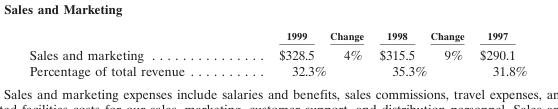table: (28, 28, 526, 78)
table column: (28, 28, 231, 78), (231, 28, 327, 78), (370, 28, 428, 78), (471, 28, 526, 78), (327, 28, 370, 78), (428, 28, 471, 78)
table column header: (28, 28, 526, 43)
table row: (28, 43, 526, 62), (28, 62, 526, 78), (28, 28, 526, 43)
